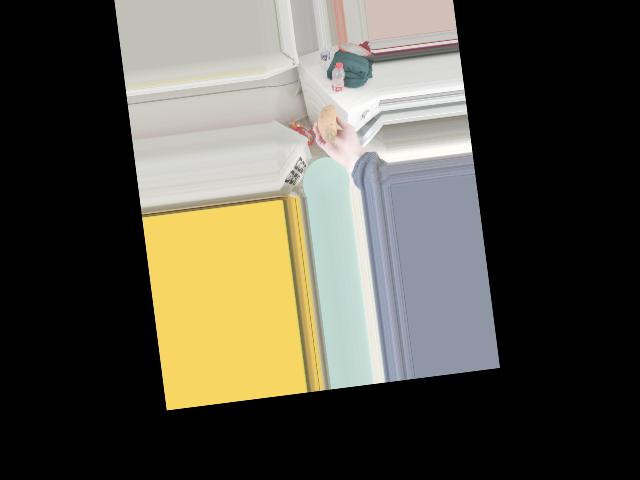sweet_potato: (317, 100, 343, 149)
